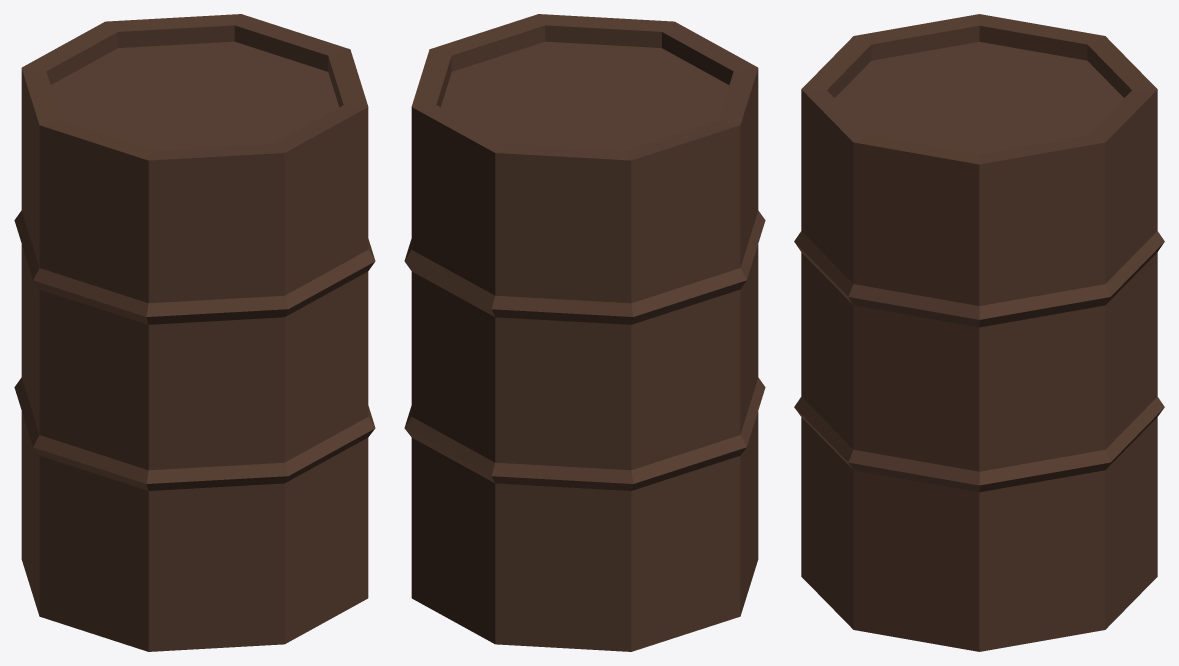
File: Drum1.fbx
3 renders of one model, left to right at view 1: azimuth 30°, elevation 25°; view 2: azimuth 150°, elevation 25°; view 3: azimuth 270°, elevation 25°, orthographic.
Parts seen in each view (by area): view 1: Circle.002; view 2: Circle.002; view 3: Circle.002.
Boxes of the visible parts, bbox=[...] form: Circle.002: bbox=[14, 14, 375, 651]; Circle.002: bbox=[404, 14, 765, 651]; Circle.002: bbox=[794, 14, 1164, 651].
Size of the model in its own units: 0.6224 by 0.9026 by 0.6224.
